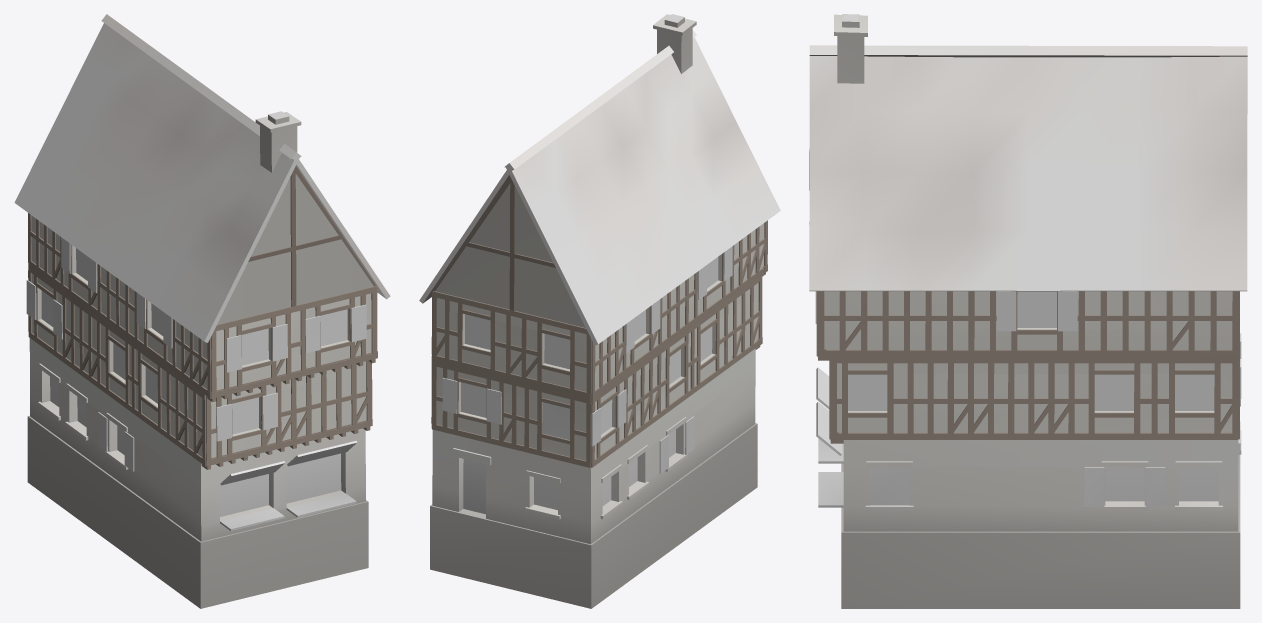
File: townhouse_2.glb
The picture shows the model from 3 angles, left to right: view 1: azimuth 30°, elevation 25°; view 2: azimuth 150°, elevation 25°; view 3: azimuth 270°, elevation 25°; orthographic projection. The views are drawn at different scales.
Parts seen in each view (by area): view 1: townhouse_2; view 2: townhouse_2; view 3: townhouse_2.
Boxes of the visible parts, x1,y1,x2,y2 form: townhouse_2: (14,14,390,608); townhouse_2: (419,14,780,608); townhouse_2: (809,14,1247,608).
Size of the model in its own units: 6.93 by 16.73 by 12.23.
